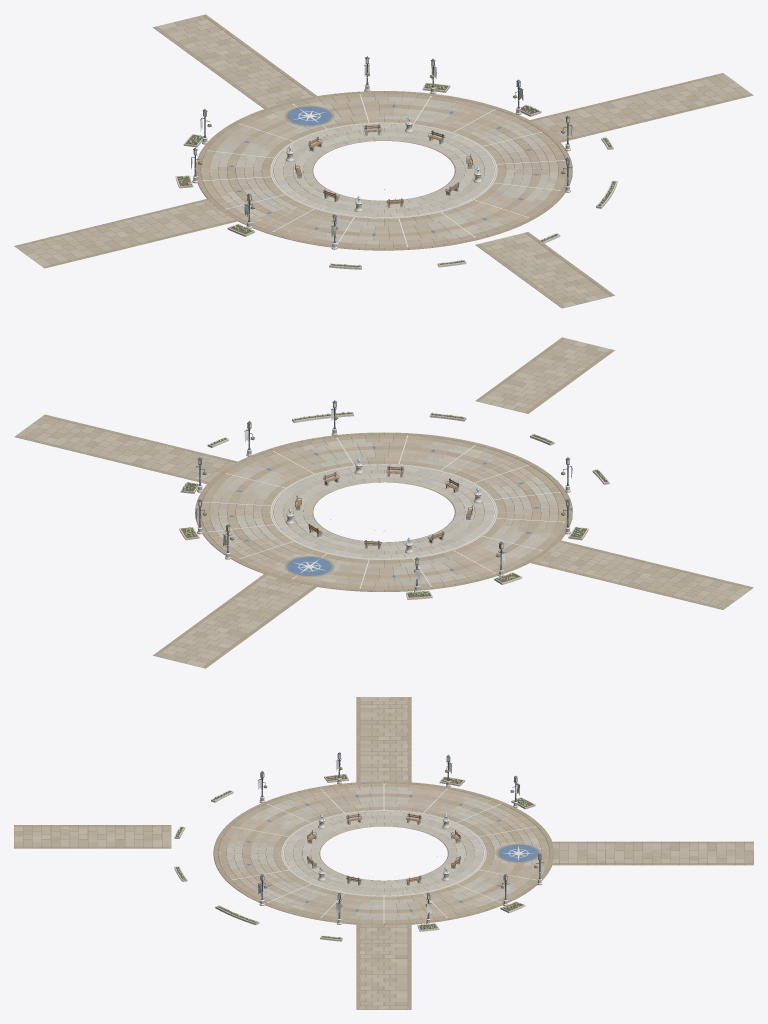
The model's file is plaza_hq.glb.
3 renders of one model, top to bottom at view 1: azimuth 30°, elevation 25°; view 2: azimuth 150°, elevation 25°; view 3: azimuth 270°, elevation 25°, orthographic. The views are drawn at different scales.
Parts seen in each view (by area): view 1: Plaza_paving, Plaza_props, Plaza_gold; view 2: Plaza_paving, Plaza_props, Plaza_gold; view 3: Plaza_paving, Plaza_props, Plaza_gold.
Boxes of the visible parts, x1,y1,x2,y2 form: Plaza_paving: (14,14,753,308); Plaza_props: (175,56,617,269); Plaza_gold: (194,55,568,247); Plaza_paving: (14,337,753,668); Plaza_props: (179,400,609,599); Plaza_gold: (199,399,568,588); Plaza_paving: (14,697,753,1009); Plaza_props: (174,752,544,941); Plaza_gold: (218,751,549,922).
Bounding box in the file's own units: 80 × 3.81 × 80.
